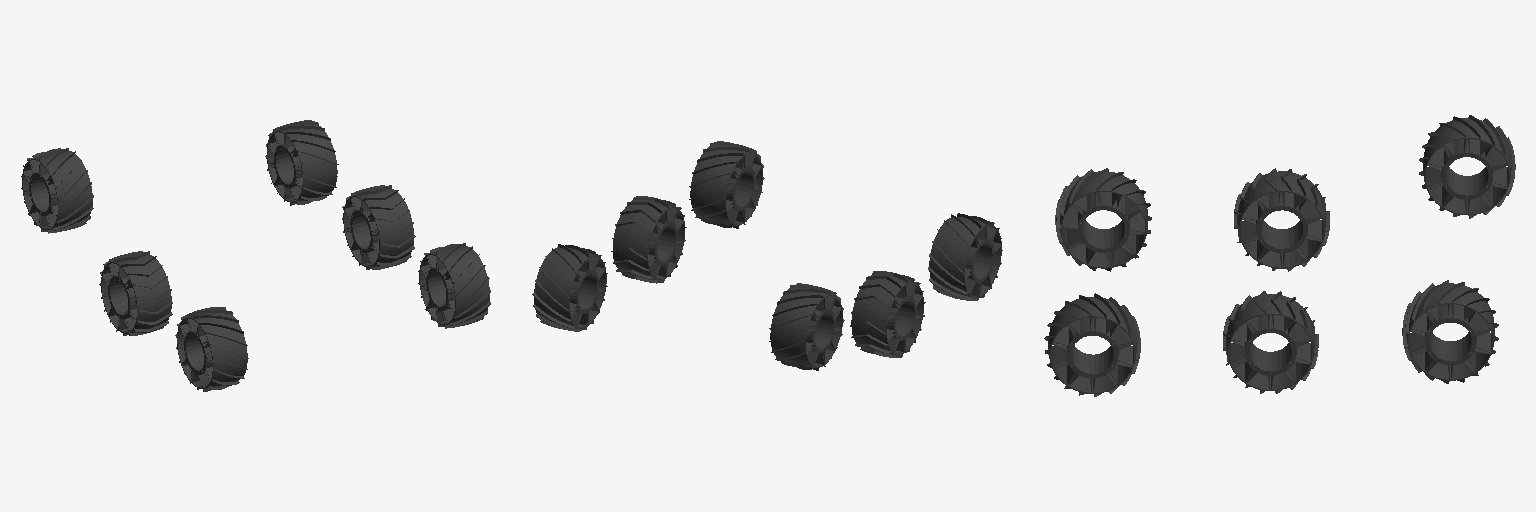
robot.urdf — roar_half_sus_description:
<?xml version="1.0" encoding="utf-8"?>
<!-- This URDF was automatically created by SolidWorks to URDF Exporter! Originally created by [author] ([email redacted]) 
     Commit Version: 1.6.0-4-g7f85cfe  Build Version: 1.6.7995.38578
     For more information, please see http://wiki.ros.org/sw_urdf_exporter -->
<robot
  name="roar_half_sus_description">
  <link
    name="base_link">
    <inertial>
      <origin
        xyz="0.632845455627434 0.220098010380349 0.17554102580271"
        rpy="0 0 0" />
      <mass
        value="0.145483865273987" />
      <inertia
        ixx="1.81539618250794E-06"
        ixy="-7.30423758522091E-38"
        ixz="-3.09129387461468E-22"
        iyy="0.000171852089872361"
        iyz="-8.63836374117876E-40"
        izz="0.000171852089872361" />
    </inertial>
    <visual>
      <origin
        xyz="0 0 0"
        rpy="0 0 0" />
      <geometry>
        <mesh
          filename="package://roar_half_sus_description/meshes/base_link.STL" />
      </geometry>
      <material
        name="">
        <color
          rgba="0.529411764705882 0.549019607843137 0.549019607843137 1" />
      </material>
    </visual>
    <collision>
      <origin
        xyz="0 0 0"
        rpy="0 0 0" />
      <geometry>
        <mesh
          filename="package://roar_half_sus_description/meshes/base_link.STL" />
      </geometry>
    </collision>
  </link>
  <link
    name="rover_body">
    <inertial>
      <origin
        xyz="-0.234757035725858 0.0641244195320546 -0.197810894574232"
        rpy="0 0 0" />
      <mass
        value="10.3327008279458" />
      <inertia
        ixx="0.052821404074523"
        ixy="8.7158665751457E-07"
        ixz="0.000283179805480461"
        iyy="0.0908924784746322"
        iyz="0.000142215882912859"
        izz="0.0531855304693799" />
    </inertial>
    <visual>
      <origin
        xyz="0 0 0"
        rpy="0 0 0" />
      <geometry>
        <mesh
          filename="package://roar_half_sus_description/meshes/rover_body.STL" />
      </geometry>
      <material
        name="">
        <color
          rgba="0.792156862745098 0.819607843137255 0.933333333333333 1" />
      </material>
    </visual>
    <collision>
      <origin
        xyz="0 0 0"
        rpy="0 0 0" />
      <geometry>
        <mesh
          filename="package://roar_half_sus_description/meshes/rover_body.STL" />
      </geometry>
    </collision>
  </link>
  <joint
    name="rover_body_joint"
    type="fixed">
    <origin
      xyz="0.86285 -0.29787 0.15763"
      rpy="1.5978 0 0" />
    <parent
      link="base_link" />
    <child
      link="rover_body" />
    <axis
      xyz="0 0 0" />
  </joint>
  <link
    name="rocker_rhs">
    <inertial>
      <origin
        xyz="-0.588879779211997 -0.202565220114935 -0.471788411984119"
        rpy="0 0 0" />
      <mass
        value="1.55415278096331" />
      <inertia
        ixx="0.00469688683255281"
        ixy="-4.75066342729271E-05"
        ixz="-6.63077733979377E-05"
        iyy="0.00423596105040861"
        iyz="-0.00126576917384239"
        izz="0.00312774582915145" />
    </inertial>
    <visual>
      <origin
        xyz="0 0 0"
        rpy="0 0 0" />
      <geometry>
        <mesh
          filename="package://roar_half_sus_description/meshes/rocker_rhs.STL" />
      </geometry>
      <material
        name="">
        <color
          rgba="0.792156862745098 0.819607843137255 0.933333333333333 1" />
      </material>
    </visual>
    <collision>
      <origin
        xyz="0 0 0"
        rpy="0 0 0" />
      <geometry>
        <mesh
          filename="package://roar_half_sus_description/meshes/rocker_rhs.STL" />
      </geometry>
    </collision>
  </link>
  <joint
    name="rocker_rhs_joint"
    type="continuous">
    <origin
      xyz="0.86385 -0.28338 0.13522"
      rpy="1.7916 0 0" />
    <parent
      link="base_link" />
    <child
      link="rocker_rhs" />
    <axis
      xyz="0 0 0" />
  </joint>
  <link
    name="bogie_rhs">
    <inertial>
      <origin
        xyz="-0.121779882652206 -0.147010396270037 0.00428618442293094"
        rpy="0 0 0" />
      <mass
        value="2.56788752332309" />
      <inertia
        ixx="0.00354223475881487"
        ixy="-9.37079089382116E-05"
        ixz="3.07032043002568E-06"
        iyy="0.00445720496373816"
        iyz="-9.23136690246861E-06"
        izz="0.00417625950048094" />
    </inertial>
    <visual>
      <origin
        xyz="0 0 0"
        rpy="0 0 0" />
      <geometry>
        <mesh
          filename="package://roar_half_sus_description/meshes/bogie_rhs.STL" />
      </geometry>
      <material
        name="">
        <color
          rgba="0.792156862745098 0.819607843137255 0.933333333333333 1" />
      </material>
    </visual>
    <collision>
      <origin
        xyz="0 0 0"
        rpy="0 0 0" />
      <geometry>
        <mesh
          filename="package://roar_half_sus_description/meshes/bogie_rhs.STL" />
      </geometry>
    </collision>
  </link>
  <joint
    name="bogie_rhs_joint"
    type="continuous">
    <origin
      xyz="-0.47915 -0.09936 0.10604"
      rpy="-0.18881 0 0" />
    <parent
      link="rocker_rhs" />
    <child
      link="bogie_rhs" />
    <axis
      xyz="1 0 0" />
  </joint>
  <link
    name="wheel_rhs_mid">
    <inertial>
      <origin
        xyz="8.60422844084496E-16 -0.000310098538664955 0.0600063600245658"
        rpy="0 0 0" />
      <mass
        value="1.5976653768916" />
      <inertia
        ixx="0.00836783341696595"
        ixy="-7.44033740868177E-18"
        ixz="-2.62070591902957E-16"
        iyy="0.00836775197998555"
        iyz="-6.26087324673021E-14"
        izz="0.0132446797996261" />
    </inertial>
    <visual>
      <origin
        xyz="0 0 0"
        rpy="0 0 0" />
      <geometry>
        <mesh
          filename="package://roar_half_sus_description/meshes/wheel_rhs_mid.STL" />
      </geometry>
      <material
        name="">
        <color
          rgba="0.298039215686275 0.298039215686275 0.298039215686275 1" />
      </material>
    </visual>
    <collision>
      <origin
        xyz="0 0 0"
        rpy="0 0 0" />
      <geometry>
        <mesh
          filename="package://roar_half_sus_description/meshes/wheel_rhs_mid.STL" />
      </geometry>
    </collision>
  </link>
  <joint
    name="wheel_rhs_mid_joint"
    type="continuous">
    <origin
      xyz="-0.10584 -0.16804 -0.22397"
      rpy="-1.5708 -1.5544 1.5708" />
    <parent
      link="bogie_rhs" />
    <child
      link="wheel_rhs_mid" />
    <axis
      xyz="0 0 -1" />
    <limit effort="13" velocity="1.0"  />
  </joint>
  <link
    name="wheel_rhs_front">
    <inertial>
      <origin
        xyz="-8.88178419700125E-16 -0.000305735305071678 0.0617344385469731"
        rpy="0 0 0" />
      <mass
        value="1.55166626304694" />
      <inertia
        ixx="0.00800333368012861"
        ixy="-1.51896724365219E-16"
        ixz="1.77675460748362E-16"
        iyy="0.00800325326915832"
        iyz="2.69515273578371E-12"
        izz="0.0125934306153832" />
    </inertial>
    <visual>
      <origin
        xyz="0 0 0"
        rpy="0 0 0" />
      <geometry>
        <mesh
          filename="package://roar_half_sus_description/meshes/wheel_rhs_front.STL" />
      </geometry>
      <material
        name="">
        <color
          rgba="0.298039215686275 0.298039215686275 0.298039215686275 1" />
      </material>
    </visual>
    <collision>
      <origin
        xyz="0 0 0"
        rpy="0 0 0" />
      <geometry>
        <mesh
          filename="package://roar_half_sus_description/meshes/wheel_rhs_front.STL" />
      </geometry>
    </collision>
  </link>
  <joint
    name="wheel_rhs_front_joint"
    type="continuous">
    <origin
      xyz="-0.10412 -0.15299 0.23451"
      rpy="1.5708 -1.3957 -1.5708" />
    <parent
      link="bogie_rhs" />
    <child
      link="wheel_rhs_front" />
    <axis
      xyz="0 0 -1" />
    <limit effort="13" velocity="1.0"  />
  </joint>
  <link
    name="wheel_rhs_rear">
    <inertial>
      <origin
        xyz="-2.77555756156289E-16 -0.000151545638853139 -0.0600149113817936"
        rpy="0 0 0" />
      <mass
        value="1.55167119278225" />
      <inertia
        ixx="0.00800323403290158"
        ixy="3.39461239707943E-17"
        ixz="6.17691849609096E-18"
        iyy="0.00800315362181798"
        iyz="-1.09712910550197E-10"
        izz="0.0125935069824427" />
    </inertial>
    <visual>
      <origin
        xyz="0 0 0"
        rpy="0 0 0" />
      <geometry>
        <mesh
          filename="package://roar_half_sus_description/meshes/wheel_rhs_rear.STL" />
      </geometry>
      <material
        name="">
        <color
          rgba="0.298039215686275 0.298039215686275 0.298039215686275 1" />
      </material>
    </visual>
    <collision>
      <origin
        xyz="0 0 0"
        rpy="0 0 0" />
      <geometry>
        <mesh
          filename="package://roar_half_sus_description/meshes/wheel_rhs_rear.STL" />
      </geometry>
    </collision>
  </link>
  <joint
    name="wheel_rhs_rear_joint"
    type="continuous">
    <origin
      xyz="-0.58498 -0.26368 -0.58117"
      rpy="1.5708 -1.35 1.5708" />
    <parent
      link="rocker_rhs" />
    <child
      link="wheel_rhs_rear" />
    <axis
      xyz="0 0 1" />
    <limit effort="13" velocity="1.0"  />
  </joint>
  <link
    name="rocker_lhs">
    <inertial>
      <origin
        xyz="0.114353473206972 -0.258908186276295 -0.349969540594019"
        rpy="0 0 0" />
      <mass
        value="1.5545065524337" />
      <inertia
        ixx="0.0046969299533925"
        ixy="4.6849927567981E-05"
        ixz="6.67737413341146E-05"
        iyy="0.00426118707859089"
        iyz="-0.00125443777145701"
        izz="0.00310258309966531" />
    </inertial>
    <visual>
      <origin
        xyz="0 0 0"
        rpy="0 0 0" />
      <geometry>
        <mesh
          filename="package://roar_half_sus_description/meshes/rocker_lhs.STL" />
      </geometry>
      <material
        name="">
        <color
          rgba="0.792156862745098 0.819607843137255 0.933333333333333 1" />
      </material>
    </visual>
    <collision>
      <origin
        xyz="0 0 0"
        rpy="0 0 0" />
      <geometry>
        <mesh
          filename="package://roar_half_sus_description/meshes/rocker_lhs.STL" />
      </geometry>
    </collision>
  </link>
  <joint
    name="rocker_lhs_joint"
    type="fixed">
    <origin
      xyz="0.87735 -0.17534 0.22095"
      rpy="1.6146 0 0" />
    <parent
      link="base_link" />
    <child
      link="rocker_lhs" />
    <axis
      xyz="1 0 0" />
    <limit effort="13" velocity="1.0"  />
  </joint>
  <link
    name="bogie_lhs">
    <inertial>
      <origin
        xyz="-0.121779882550561 -0.147010396014081 0.00428618505486494"
        rpy="0 0 0" />
      <mass
        value="2.56788752339168" />
      <inertia
        ixx="0.00354223473982999"
        ixy="-9.37079090576661E-05"
        ixz="3.0703206498948E-06"
        iyy="0.00445720493882514"
        iyz="-9.23137037009385E-06"
        izz="0.00417625949138921" />
    </inertial>
    <visual>
      <origin
        xyz="0 0 0"
        rpy="0 0 0" />
      <geometry>
        <mesh
          filename="package://roar_half_sus_description/meshes/bogie_lhs.STL" />
      </geometry>
      <material
        name="">
        <color
          rgba="0.792156862745098 0.819607843137255 0.933333333333333 1" />
      </material>
    </visual>
    <collision>
      <origin
        xyz="0 0 0"
        rpy="0 0 0" />
      <geometry>
        <mesh
          filename="package://roar_half_sus_description/meshes/bogie_lhs.STL" />
      </geometry>
    </collision>
  </link>
  <joint
    name="bogie_lhs_joint"
    type="continuous">
    <origin
      xyz="0.0046452 -0.16165 0.22862"
      rpy="-3.082 0 3.1416" />
    <parent
      link="rocker_lhs" />
    <child
      link="bogie_lhs" />
    <axis
      xyz="1 0 0" />
  </joint>
  <link
    name="wheel_lhs_mid">
    <inertial>
      <origin
        xyz="1.27675647831893E-15 0.000310098538664386 0.0600061613680265"
        rpy="0 0 0" />
      <mass
        value="1.59766537689161" />
      <inertia
        ixx="0.0083678334169662"
        ixy="9.67938283585337E-17"
        ixz="-3.01772718981372E-16"
        iyy="0.00836775197998587"
        iyz="-6.25158028025809E-14"
        izz="0.0132446797996265" />
    </inertial>
    <visual>
      <origin
        xyz="0 0 0"
        rpy="0 0 0" />
      <geometry>
        <mesh
          filename="package://roar_half_sus_description/meshes/wheel_lhs_mid.STL" />
      </geometry>
      <material
        name="">
        <color
          rgba="0.298039215686275 0.298039215686275 0.298039215686275 1" />
      </material>
    </visual>
    <collision>
      <origin
        xyz="0 0 0"
        rpy="0 0 0" />
      <geometry>
        <mesh
          filename="package://roar_half_sus_description/meshes/wheel_lhs_mid.STL" />
      </geometry>
    </collision>
  </link>
  <joint
    name="wheel_lhs_mid_joint"
    type="continuous">
    <origin
      xyz="-0.10585 -0.15299 0.23451"
      rpy="1.5708 1.555 -1.5708" />
    <parent
      link="bogie_lhs" />
    <child
      link="wheel_lhs_mid" />
    <axis
      xyz="0 0 1" />
    <limit effort="13" velocity="1.0"  />
  </joint>
  <link
    name="wheel_lhs_front">
    <inertial>
      <origin
        xyz="-3.33066907387547E-16 0.000305735786541222 0.060015644846366"
        rpy="0 0 0" />
      <mass
        value="1.55167119278224" />
      <inertia
        ixx="0.00800323403290159"
        ixy="5.69505313357115E-17"
        ixz="-4.16519307409895E-17"
        iyy="0.00800315362181807"
        iyz="-1.09712867240503E-10"
        izz="0.0125935069824428" />
    </inertial>
    <visual>
      <origin
        xyz="0 0 0"
        rpy="0 0 0" />
      <geometry>
        <mesh
          filename="package://roar_half_sus_description/meshes/wheel_lhs_front.STL" />
      </geometry>
      <material
        name="">
        <color
          rgba="0.298039215686275 0.298039215686275 0.298039215686275 1" />
      </material>
    </visual>
    <collision>
      <origin
        xyz="0 0 0"
        rpy="0 0 0" />
      <geometry>
        <mesh
          filename="package://roar_half_sus_description/meshes/wheel_lhs_front.STL" />
      </geometry>
    </collision>
  </link>
  <joint
    name="wheel_lhs_front_joint"
    type="continuous">
    <origin
      xyz="-0.10583 -0.16804 -0.22397"
      rpy="1.5708 1.555 -1.5708" />
    <parent
      link="bogie_lhs" />
    <child
      link="wheel_lhs_front" />
    <axis
      xyz="0 0 1" />
    <limit effort="13" velocity="1.0"  />
  </joint>
  <link
    name="wheel_lhs_rear">
    <inertial>
      <origin
        xyz="-7.27196081129478E-15 0.000305735305074439 0.0617344149234691"
        rpy="0 0 0" />
      <mass
        value="1.55166626304693" />
      <inertia
        ixx="0.00800333368012838"
        ixy="1.64560332790168E-16"
        ixz="2.82830548805523E-16"
        iyy="0.00800325326915771"
        iyz="2.69451972771872E-12"
        izz="0.0125934306153827" />
    </inertial>
    <visual>
      <origin
        xyz="0 0 0"
        rpy="0 0 0" />
      <geometry>
        <mesh
          filename="package://roar_half_sus_description/meshes/wheel_lhs_rear.STL" />
      </geometry>
      <material
        name="">
        <color
          rgba="0.298039215686275 0.298039215686275 0.298039215686275 1" />
      </material>
    </visual>
    <collision>
      <origin
        xyz="0 0 0"
        rpy="0 0 0" />
      <geometry>
        <mesh
          filename="package://roar_half_sus_description/meshes/wheel_lhs_rear.STL" />
      </geometry>
    </collision>
  </link>
  <joint
    name="wheel_lhs_rear_joint"
    type="continuous">
    <origin
      xyz="0.10877 -0.31909 -0.4602"
      rpy="1.5708 -1.527 1.5708" />
    <parent
      link="rocker_lhs" />
    <child
      link="wheel_lhs_rear" />
    <axis
      xyz="0 0 1" />
    <limit effort="13" velocity="1.0"  />
  </joint>

  <!-- ROS Control plugin for Gazebo-->
  <gazebo>
    <plugin name="gazebo_ros_control" filename="libgazebo_ros_control.so">
      <robotNamespace>/roar</robotNamespace>
    </plugin>
  </gazebo>
  
  <!--transmission-->
  <transmission name="wheel_lhs_front_transmission">
    <type>transmission_interface/SimpleTransmission</type>
    <joint name="wheel_lhs_front_joint">
      <hardwareInterface>hardware_interface/VelocityJointInterface</hardwareInterface>
    </joint>
    <actuator name="wheel_lhs_front_motor">
      <mechanicalReduction>1</mechanicalReduction>
    </actuator>
  </transmission>

  <transmission name="wheel_lhs_mid_transmission">
    <type>transmission_interface/SimpleTransmission</type>
    <joint name="wheel_lhs_mid_joint">
      <hardwareInterface>hardware_interface/VelocityJointInterface</hardwareInterface>
    </joint>
    <actuator name="wheel_lhs_mid_motor">
      <mechanicalReduction>1</mechanicalReduction>
    </actuator>
  </transmission>

  <transmission name="wheel_lhs_rear_transmission">
    <type>transmission_interface/SimpleTransmission</type>
    <joint name="wheel_lhs_rear_joint">
      <hardwareInterface>hardware_interface/VelocityJointInterface</hardwareInterface>
    </joint>
    <actuator name="wheel_lhs_rear_motor">
      <mechanicalReduction>1</mechanicalReduction>
    </actuator>
  </transmission>

  <transmission name="wheel_rhs_front_transmission">
    <type>transmission_interface/SimpleTransmission</type>
    <joint name="wheel_rhs_front_joint">
      <hardwareInterface>hardware_interface/VelocityJointInterface</hardwareInterface>
    </joint>
    <actuator name="wheel_rhs_front_motor">
      <mechanicalReduction>1</mechanicalReduction>
    </actuator>
  </transmission>

  <transmission name="wheel_rhs_mid_transmission">
    <type>transmission_interface/SimpleTransmission</type>
    <joint name="wheel_rhs_mid_joint">
      <hardwareInterface>hardware_interface/VelocityJointInterface</hardwareInterface>
    </joint>
    <actuator name="wheel_rhs_mid_motor">
      <mechanicalReduction>1</mechanicalReduction>
    </actuator>
  </transmission>

  <transmission name="wheel_rhs_rear_transmission">
    <type>transmission_interface/SimpleTransmission</type>
    <joint name="wheel_rhs_rear_joint">
      <hardwareInterface>hardware_interface/VelocityJointInterface</hardwareInterface>
    </joint>
    <actuator name="wheel_rhs_rear_motor">
      <mechanicalReduction>1</mechanicalReduction>
    </actuator>
  </transmission>
  
</robot>

--- Render facts (derived) ---
The picture shows the robot from 3 angles, left to right: view 1: azimuth 30°, elevation 25°; view 2: azimuth 150°, elevation 25°; view 3: azimuth 270°, elevation 25°; orthographic projection.
Robot: roar_half_sus_description — 12 links, 11 joints (9 continuous, 2 fixed); root link base_link; default pose: all joints at 0.
Links seen in each view (by area): view 1: wheel_rhs_mid, wheel_lhs_mid, wheel_rhs_rear, wheel_lhs_front, wheel_lhs_rear, wheel_rhs_front; view 2: wheel_rhs_mid, wheel_lhs_front, wheel_rhs_rear, wheel_lhs_mid, wheel_rhs_front, wheel_lhs_rear; view 3: wheel_lhs_rear, wheel_rhs_front, wheel_rhs_rear, wheel_lhs_front, wheel_rhs_mid, wheel_lhs_mid.
Link boxes in pixels (<box>): wheel_rhs_mid: <box>99,251,172,335</box>; wheel_lhs_mid: <box>342,185,415,269</box>; wheel_rhs_rear: <box>21,148,93,233</box>; wheel_lhs_front: <box>418,243,490,328</box>; wheel_lhs_rear: <box>265,120,338,205</box>; wheel_rhs_front: <box>175,307,248,391</box>; wheel_rhs_mid: <box>850,271,925,357</box>; wheel_lhs_front: <box>689,141,764,228</box>; wheel_rhs_rear: <box>769,283,844,370</box>; wheel_lhs_mid: <box>611,196,686,283</box>; wheel_rhs_front: <box>928,213,1002,300</box>; wheel_lhs_rear: <box>532,244,607,331</box>; wheel_lhs_rear: <box>1402,280,1498,383</box>; wheel_rhs_front: <box>1055,168,1151,271</box>; wheel_rhs_rear: <box>1419,115,1515,218</box>; wheel_lhs_front: <box>1044,293,1140,396</box>; wheel_rhs_mid: <box>1234,168,1329,271</box>; wheel_lhs_mid: <box>1223,291,1318,393</box>.
Size in the robot's own frame: 0.949 by 1.21 by 0.4014 metres.
Meshes: 12 distinct files referenced, 6 mesh visuals loaded (6 binary STL); not drawn: 6 (reference not matched to a file when rendering).